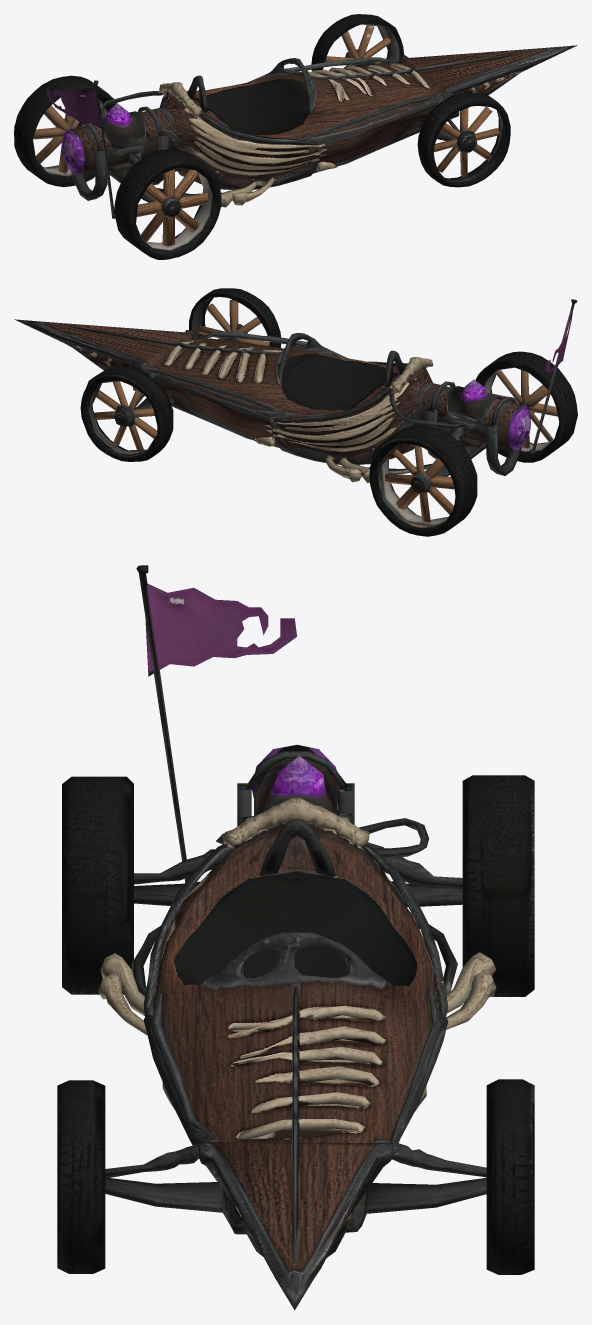
File: tripo_convert_0d34fcdb-f6bd-45fc-aad2-1308addc08b8.fbx
3 views of the same model, one above another, from view 1: azimuth 30°, elevation 25°; view 2: azimuth 150°, elevation 25°; view 3: azimuth 270°, elevation 25° (orthographic). The views are drawn at different scales.
Visible parts, largest first — view 1: tripo_node_0d34fcdb; view 2: tripo_node_0d34fcdb; view 3: tripo_node_0d34fcdb.
Boxes of the visible parts, x1=… form: tripo_node_0d34fcdb: x1=14, y1=14, x2=577, y2=259; tripo_node_0d34fcdb: x1=14, y1=288, x2=577, y2=536; tripo_node_0d34fcdb: x1=57, y1=565, x2=534, y2=1310.
Bounding box in the file's own units: 0.998 × 0.3223 × 0.3887.
Materials: 1 (1 with a texture image).
